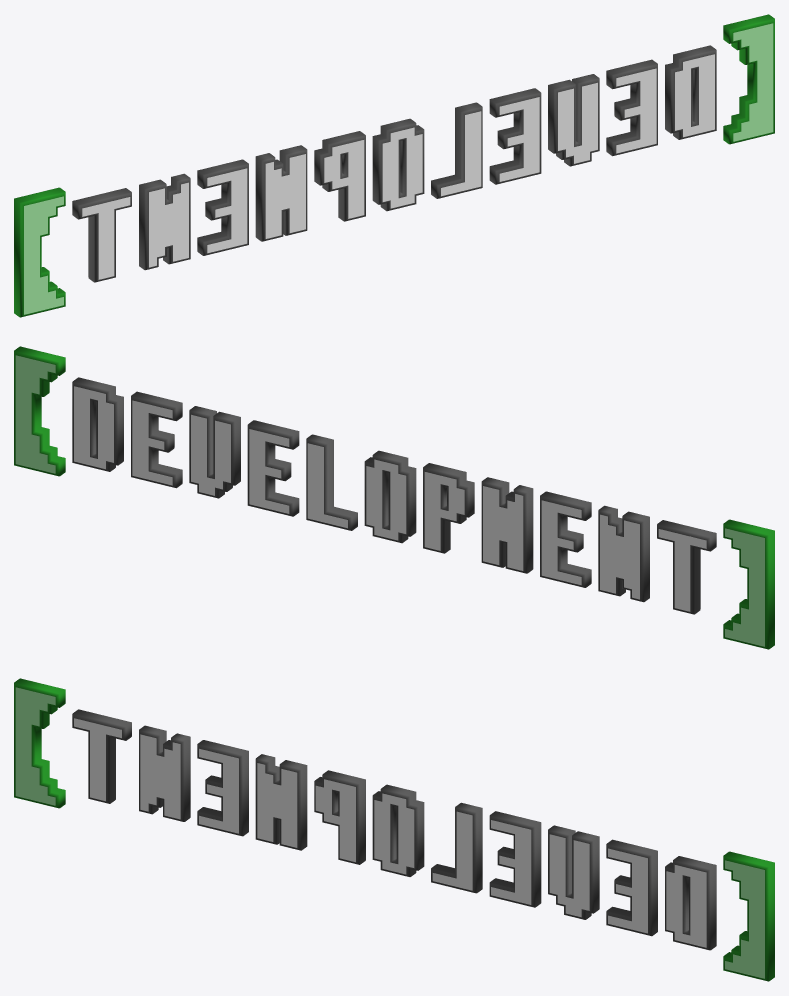
Rendered from DEVELOPMENT.fbx.
3 views of the same model, one above another, from view 1: azimuth 30°, elevation 25°; view 2: azimuth 150°, elevation 25°; view 3: azimuth 330°, elevation 25° (orthographic).
Visible parts, largest first — view 1: Text, Text.001; view 2: Text, Text.001; view 3: Text, Text.001.
Boxes of the visible parts, x1,y1,x2,y2 form: Text: (24,23,773,314); Text.001: (14,14,774,317); Text: (15,355,764,646); Text.001: (14,346,774,649); Text: (15,687,764,978); Text.001: (14,678,774,981).
Bounding box in the file's own units: 14501 × 2106 × 280.
